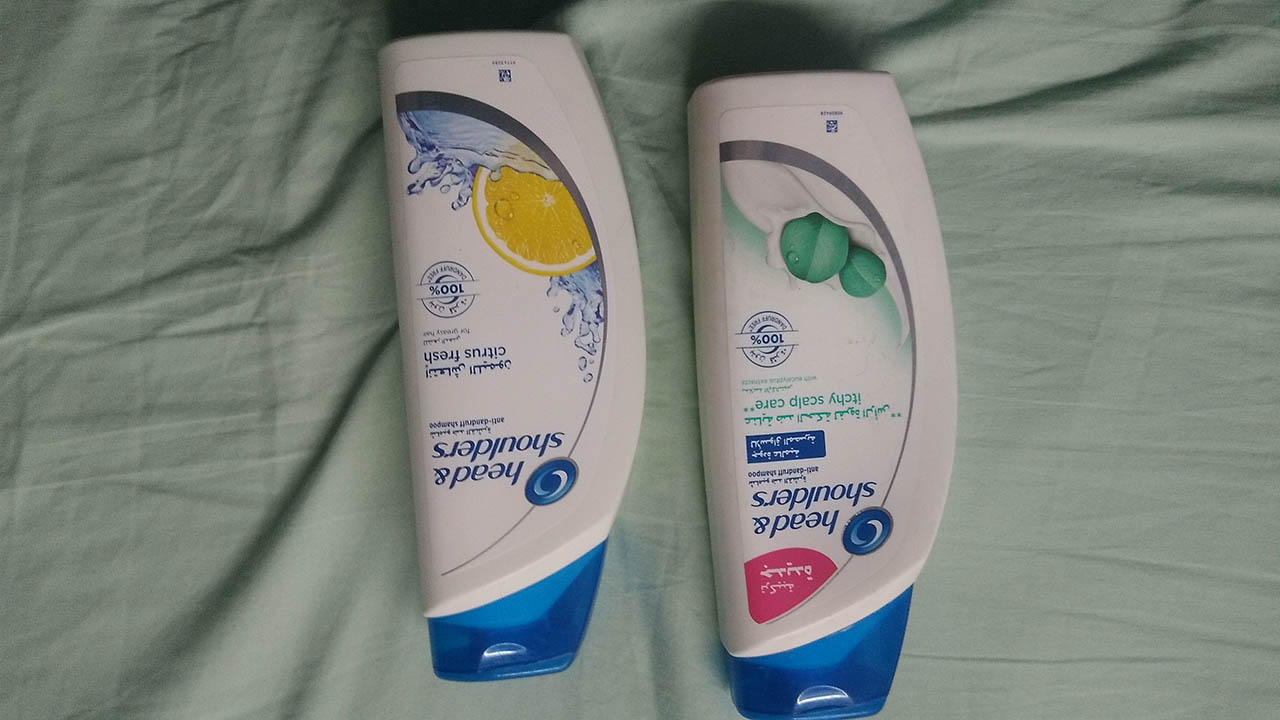shampoo-Lemon 3.5$: (409, 25, 635, 686)
shampoo-green 4.5$: (679, 58, 957, 720)
